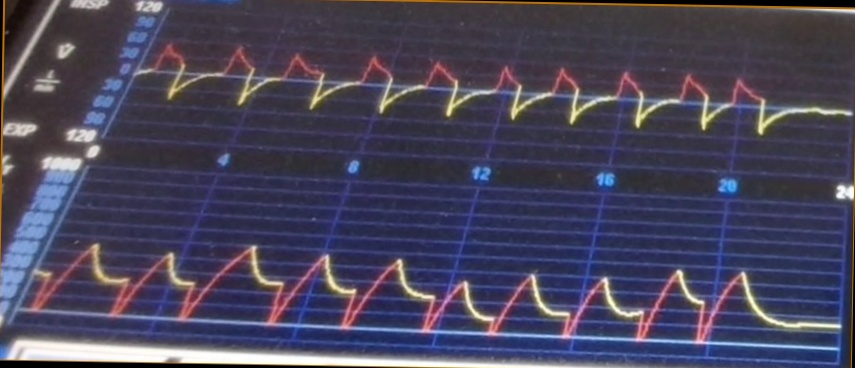Flow: (149, 40, 830, 145)
Leakage Volume: (31, 235, 794, 342)
